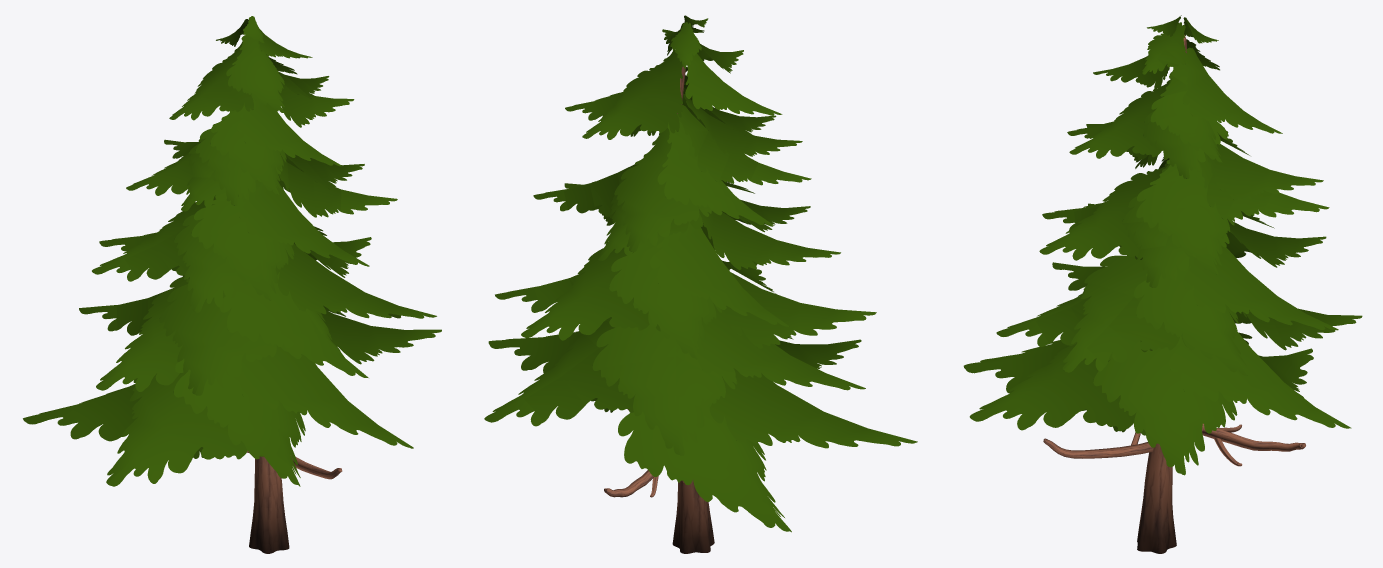
The model's file is Pine_2.gltf.
The picture shows the model from 3 angles, left to right: view 1: azimuth 30°, elevation 25°; view 2: azimuth 150°, elevation 25°; view 3: azimuth 270°, elevation 25°; orthographic projection. The views are drawn at different scales.
Parts seen in each view (by area): view 1: Pine_2; view 2: Pine_2; view 3: Pine_2.
Boxes of the visible parts, x1=… form: Pine_2: x1=23, y1=16, x2=441, y2=553; Pine_2: x1=484, y1=15, x2=917, y2=553; Pine_2: x1=963, y1=15, x2=1362, y2=553.
Bounding box in the file's own units: 5.73 × 7.38 × 5.22.
2 materials, 2 textured.
